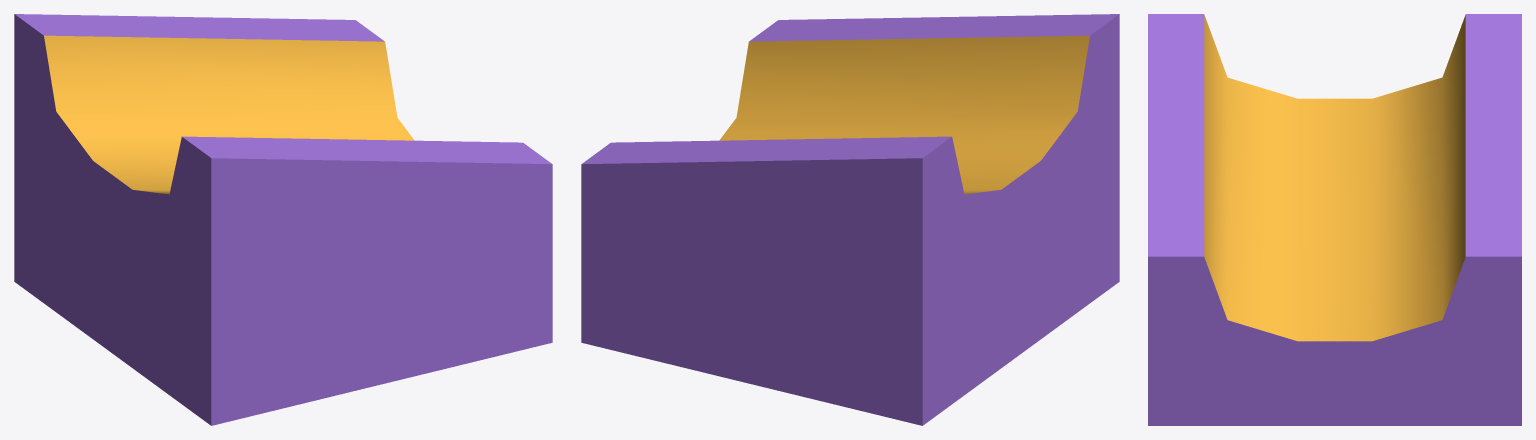
File: slant-solid-a-col.glb
The picture shows the model from 3 angles, left to right: view 1: azimuth 30°, elevation 25°; view 2: azimuth 150°, elevation 25°; view 3: azimuth 270°, elevation 25°; orthographic projection. The views are drawn at different scales.
Parts seen in each view (by area): view 1: slant-solid-a-col; view 2: slant-solid-a-col; view 3: slant-solid-a-col.
Part boxes in pixels (bbox=[...]): slant-solid-a-col: bbox=[14, 14, 552, 425]; slant-solid-a-col: bbox=[581, 14, 1119, 425]; slant-solid-a-col: bbox=[1148, 14, 1521, 425].
Bounding box in the file's own units: 1 × 0.75 × 1.
Materials: 1 (1 with a texture image).
